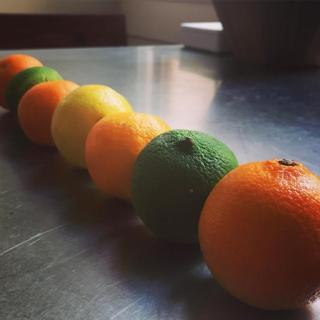Orange: (198, 157, 320, 313), (130, 129, 236, 241), (85, 115, 169, 199), (52, 83, 129, 164), (22, 81, 75, 140), (0, 66, 58, 119), (0, 53, 45, 88)
